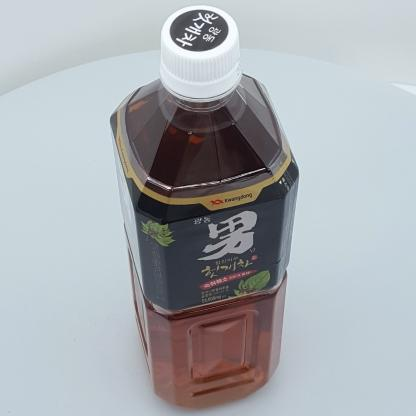----------1L: (110, 5, 299, 409)
